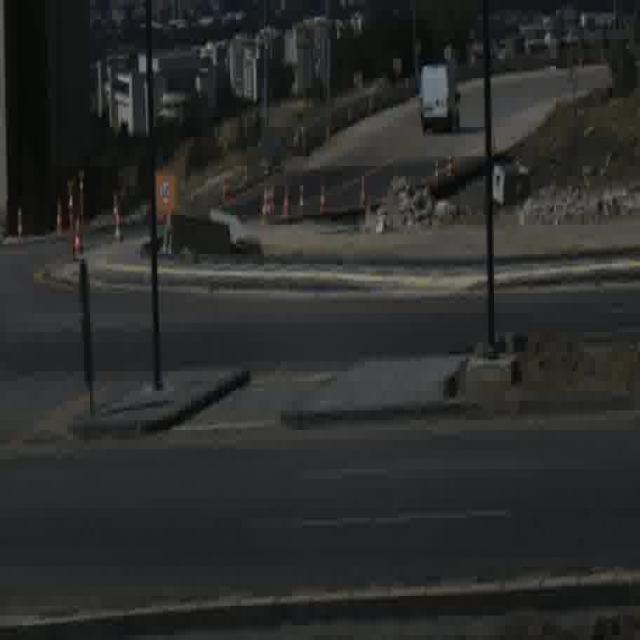Car: (419, 61, 461, 138)
